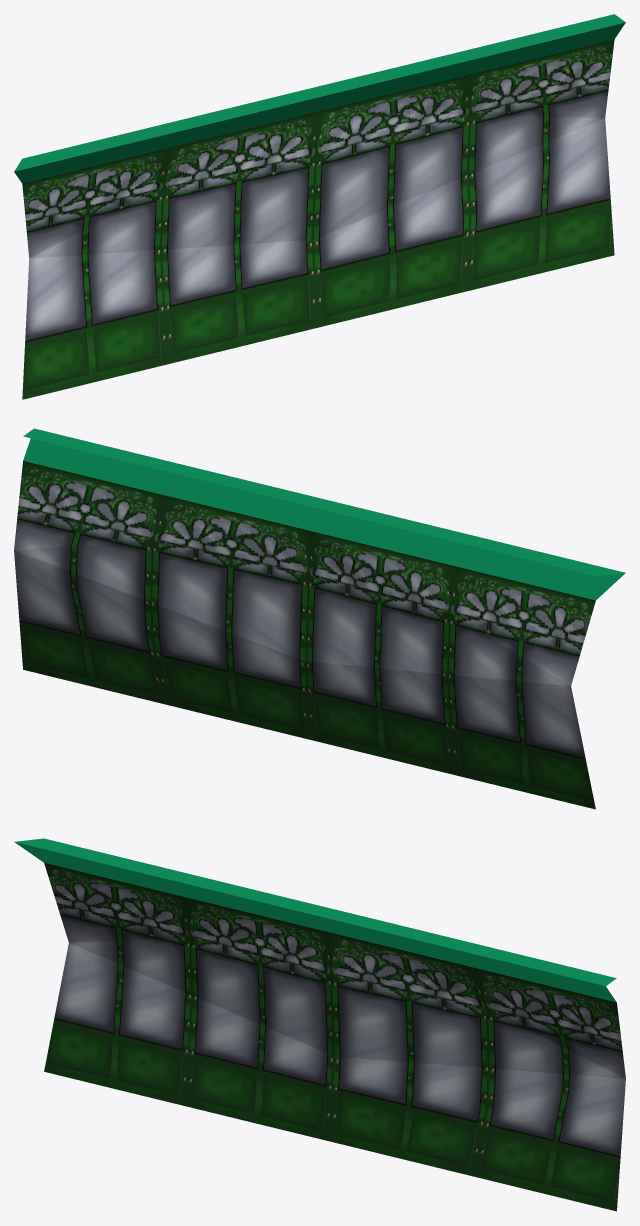
Rendered from W_A2l_xxxx [GrünesMetall]_255.glb.
3 views of the same model, one above another, from view 1: azimuth 30°, elevation 25°; view 2: azimuth 150°, elevation 25°; view 3: azimuth 330°, elevation 25° (orthographic). The views are drawn at different scales.
Visible parts, largest first — view 1: polySurfaceShape787, polySurfaceShape1065; view 2: polySurfaceShape787, polySurfaceShape1065; view 3: polySurfaceShape787, polySurfaceShape1065.
Boxes of the visible parts, x1=… form: polySurfaceShape787: x1=22, y1=39, x2=614, y2=399; polySurfaceShape1065: x1=14, y1=14, x2=625, y2=183; polySurfaceShape787: x1=14, y1=461, x2=595, y2=809; polySurfaceShape1065: x1=23, y1=428, x2=625, y2=600; polySurfaceShape787: x1=44, y1=863, x2=625, y2=1211; polySurfaceShape1065: x1=14, y1=838, x2=616, y2=1002.
Size of the model in its own units: 1.03 by 0.3891 by 0.0607.
Materials: 2 (1 with a texture image).
